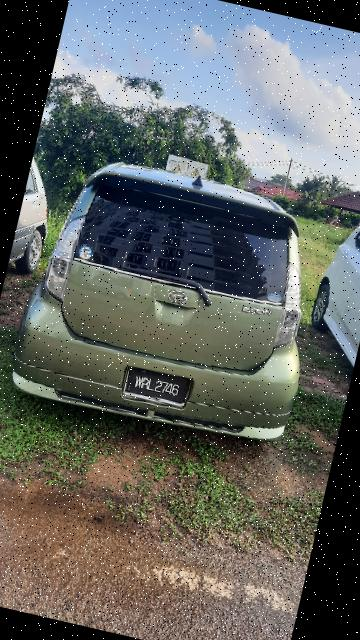License_Plate: (117, 364, 203, 414)
car: (1, 133, 348, 462)
